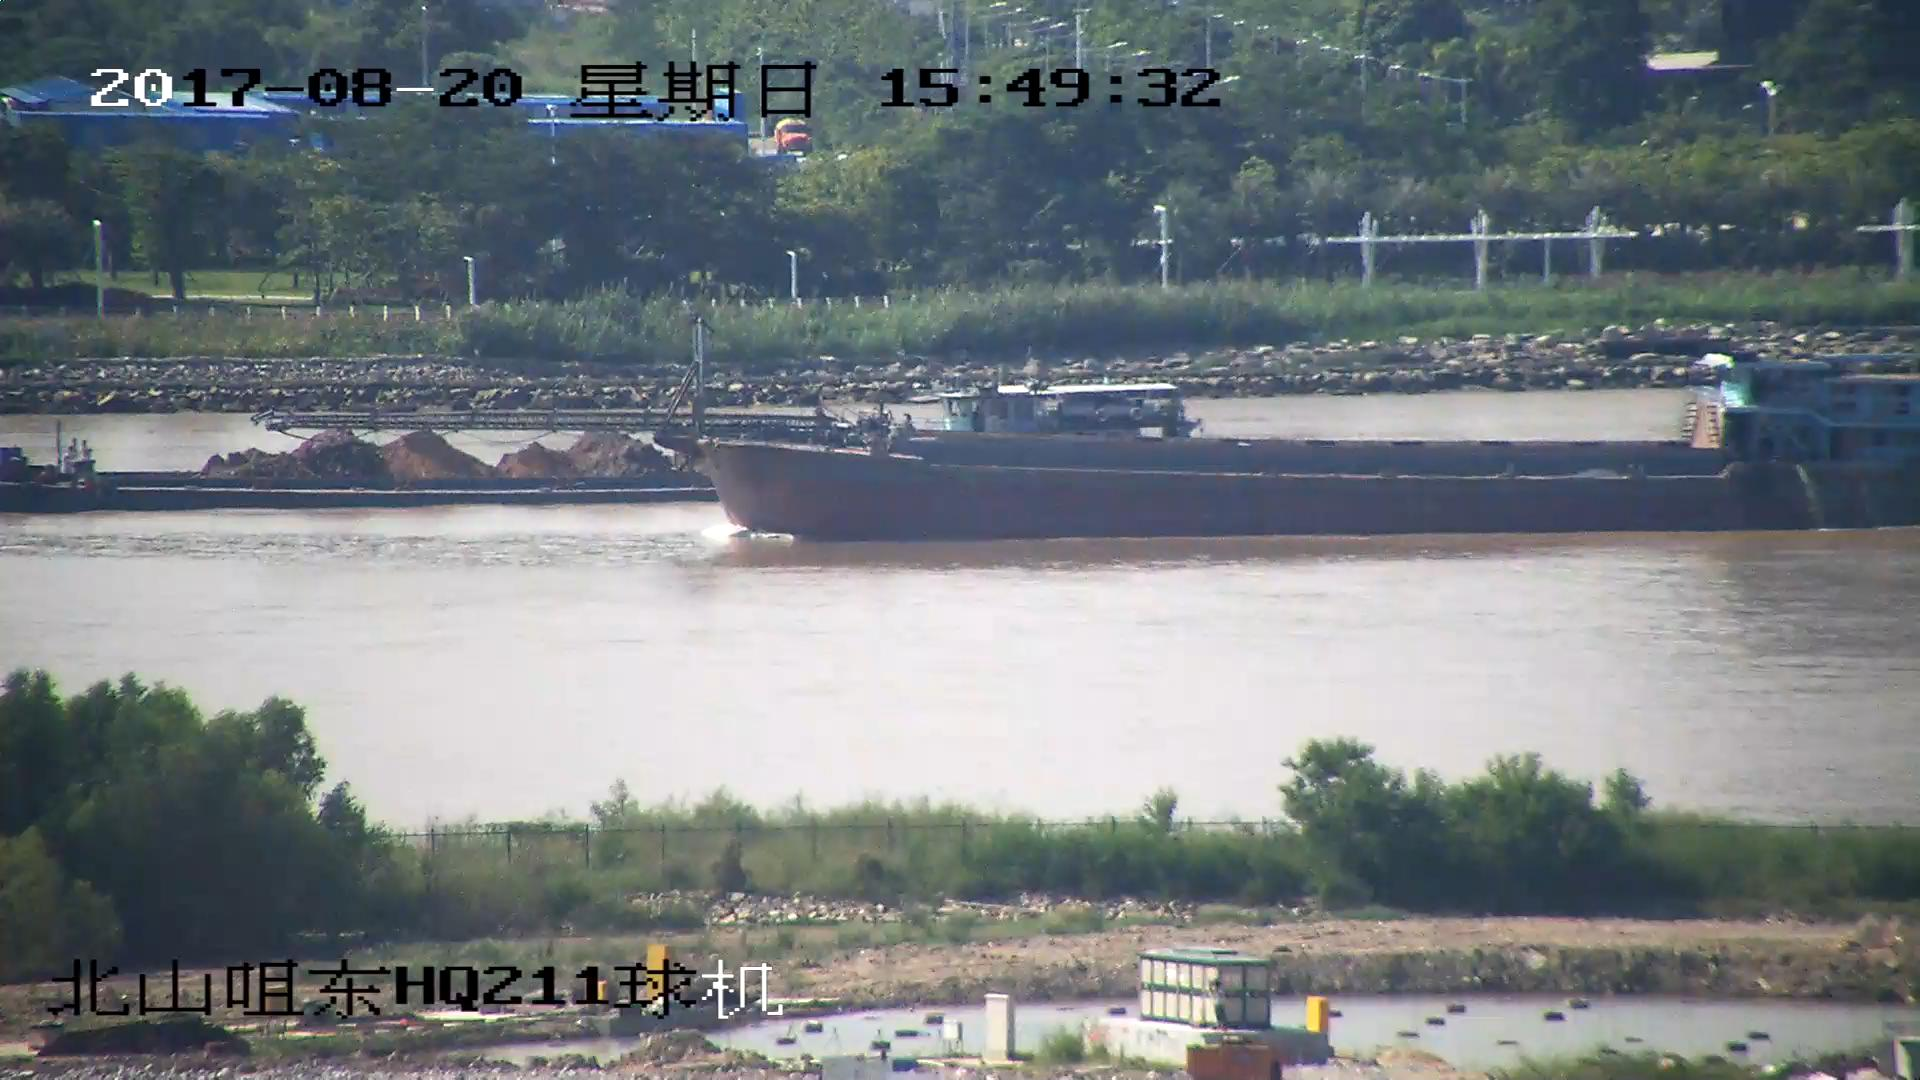bulk cargo carrier: (287, 325, 1920, 544)
ore carrier: (1, 371, 1189, 516)
